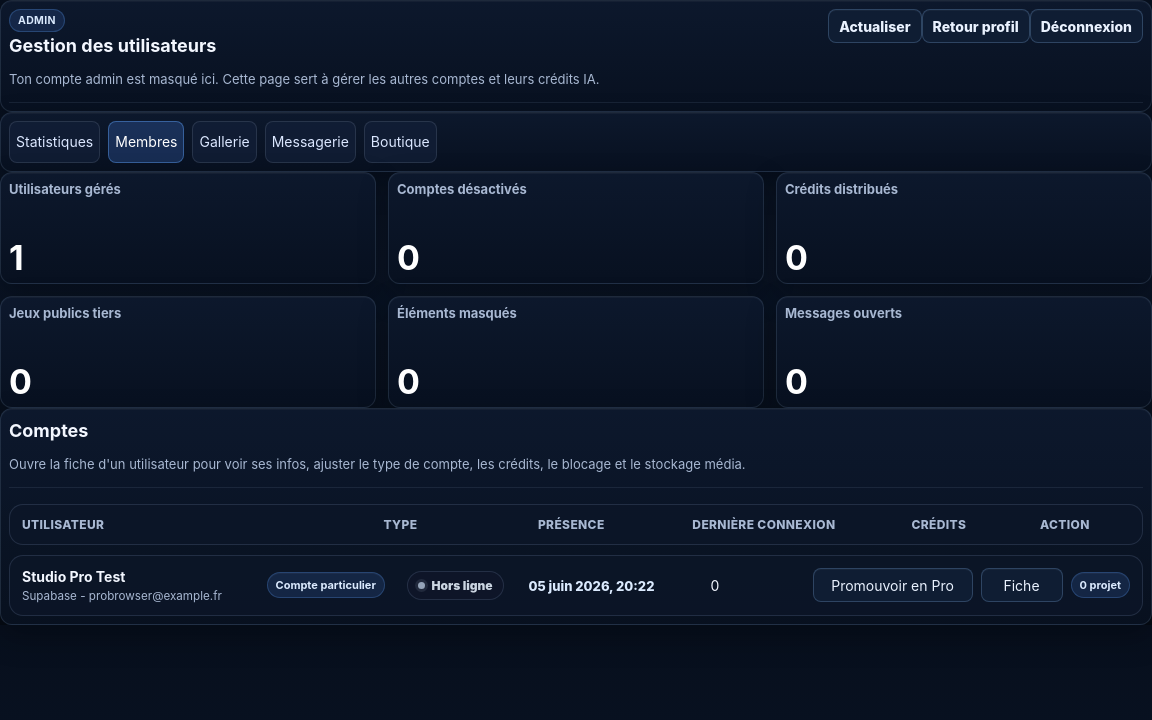
Scenario: admin statistics tab › promotes a Supabase account to pro from the account sheet
Click the button "Fiche": (1022, 585) [980,568,1062,602]
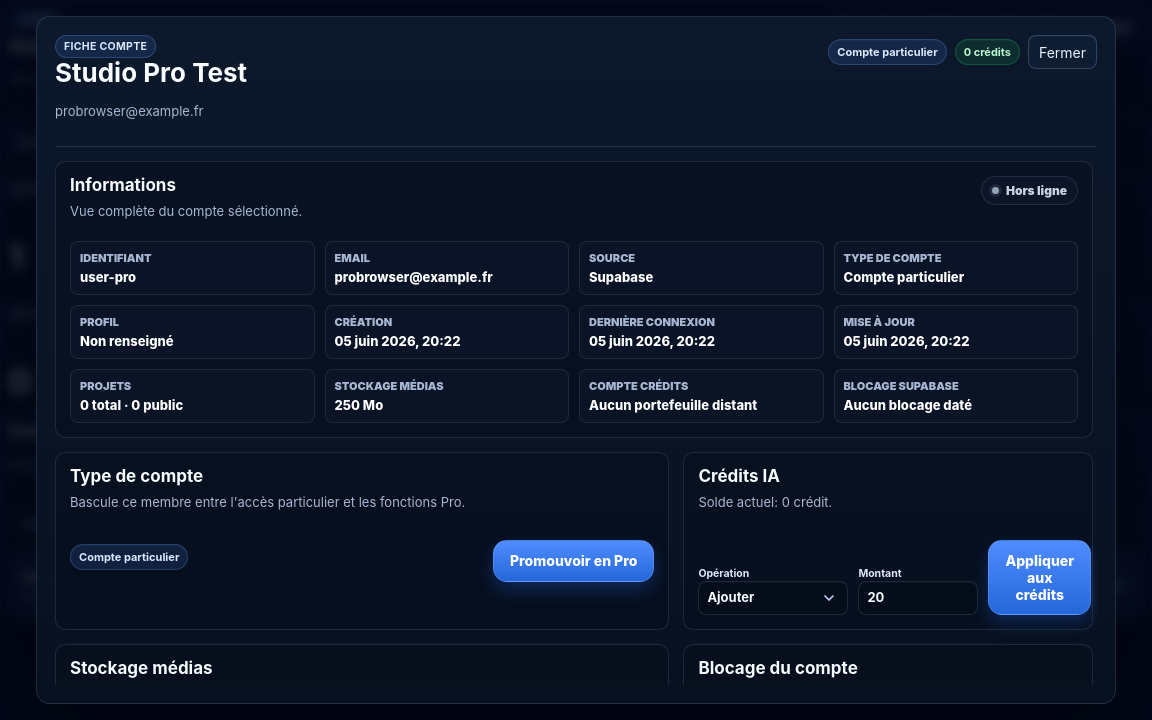
Click the button "Promouvoir en Pro": (574, 561) [493,540,654,582]
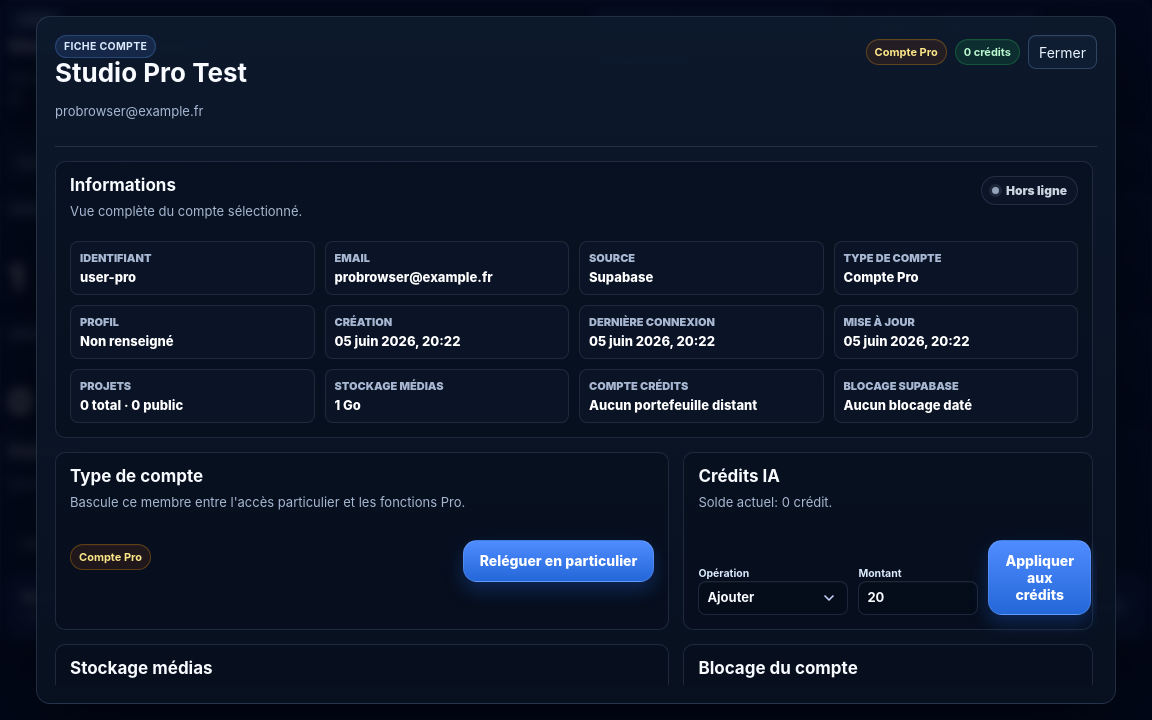
Now the text "Compte Pro" in the row of "Fiche compte" is shown, box [875,45,938,59]
